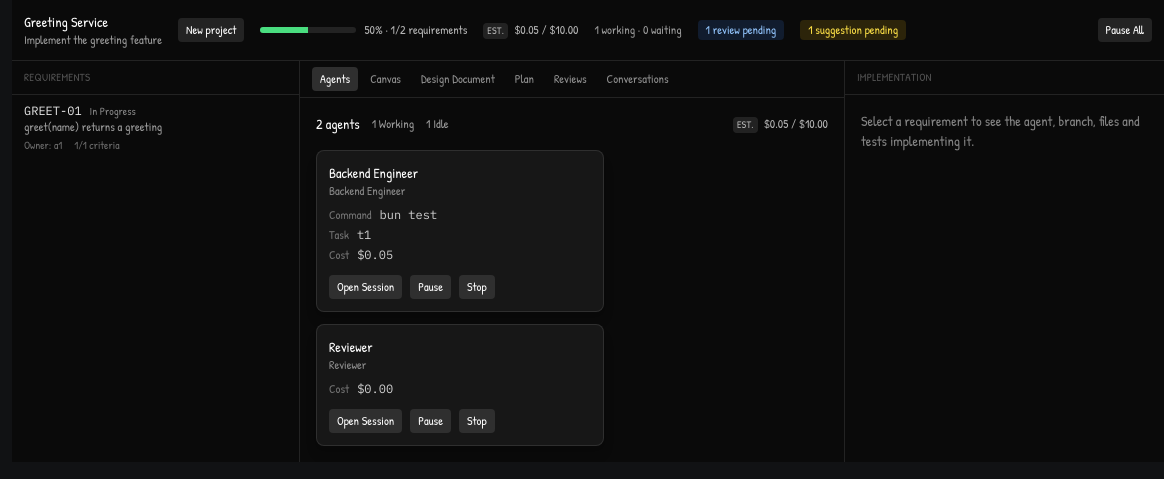
it: the shell can reach archived conversation history › the panel offers the control, so history is not stranded on disk
Expected: the text with test id "project-name" reads "Greeting Service", [24,12,108,31]
Click the button with test id "tab-conversations". click: (638, 79)
box: [599,67,677,91]
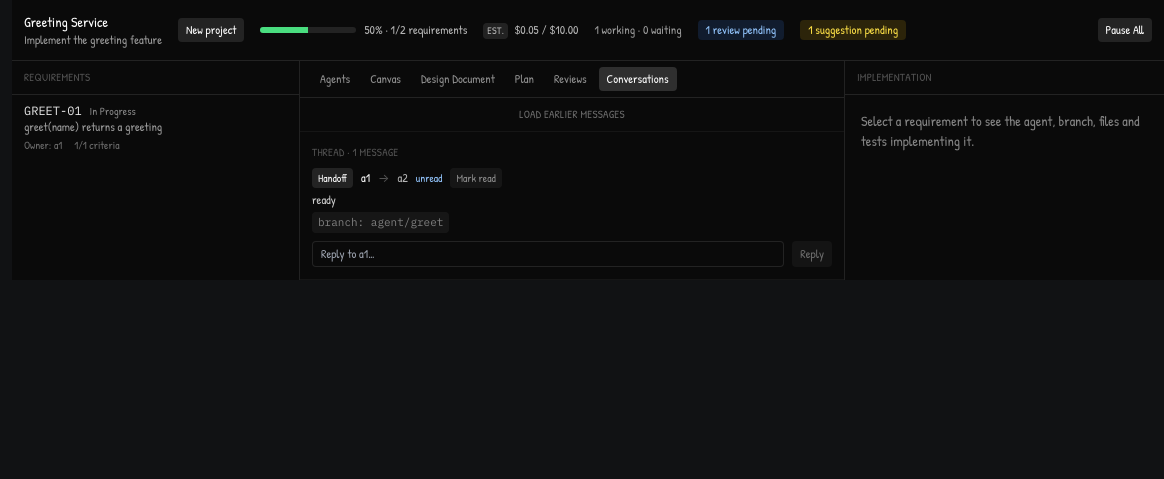
Result: the element with test id "conversation-view" is shown at [300,98,844,280]
Result: the button with test id "load-message-history" is shown at [300,98,844,132]
